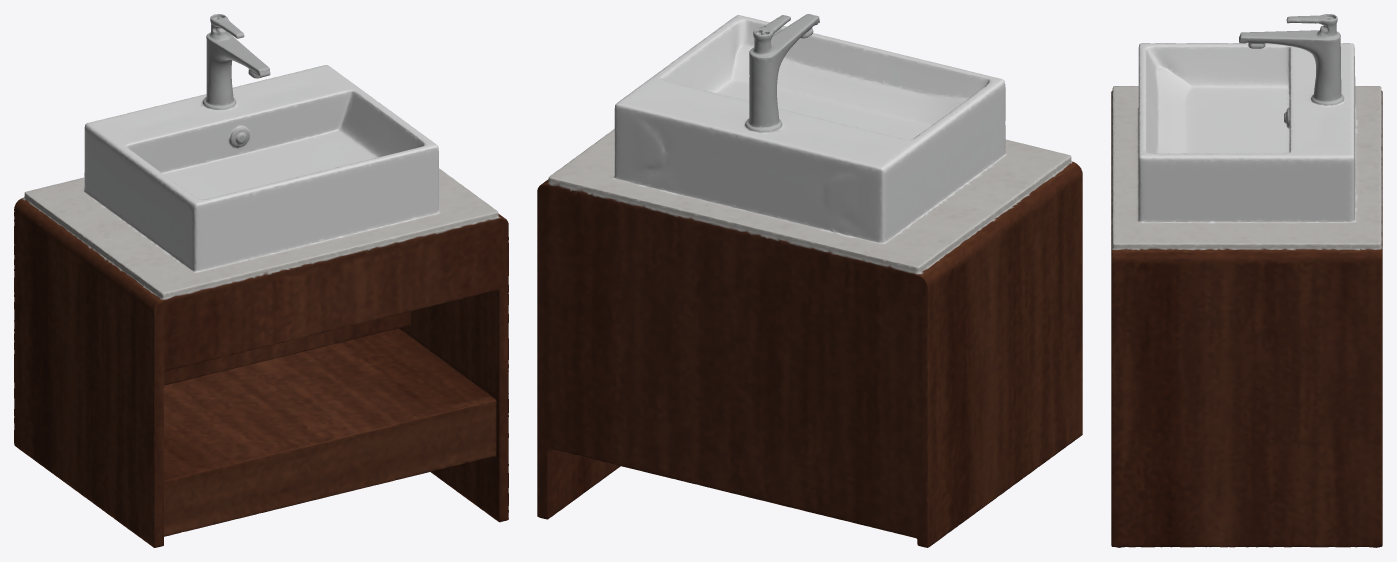
The model's file is vanity.glb.
3 renders of one model, left to right at view 1: azimuth 30°, elevation 25°; view 2: azimuth 150°, elevation 25°; view 3: azimuth 270°, elevation 25°, orthographic. The views are drawn at different scales.
Bounding box in the file's own units: 0.7998 × 1 × 0.5487.
